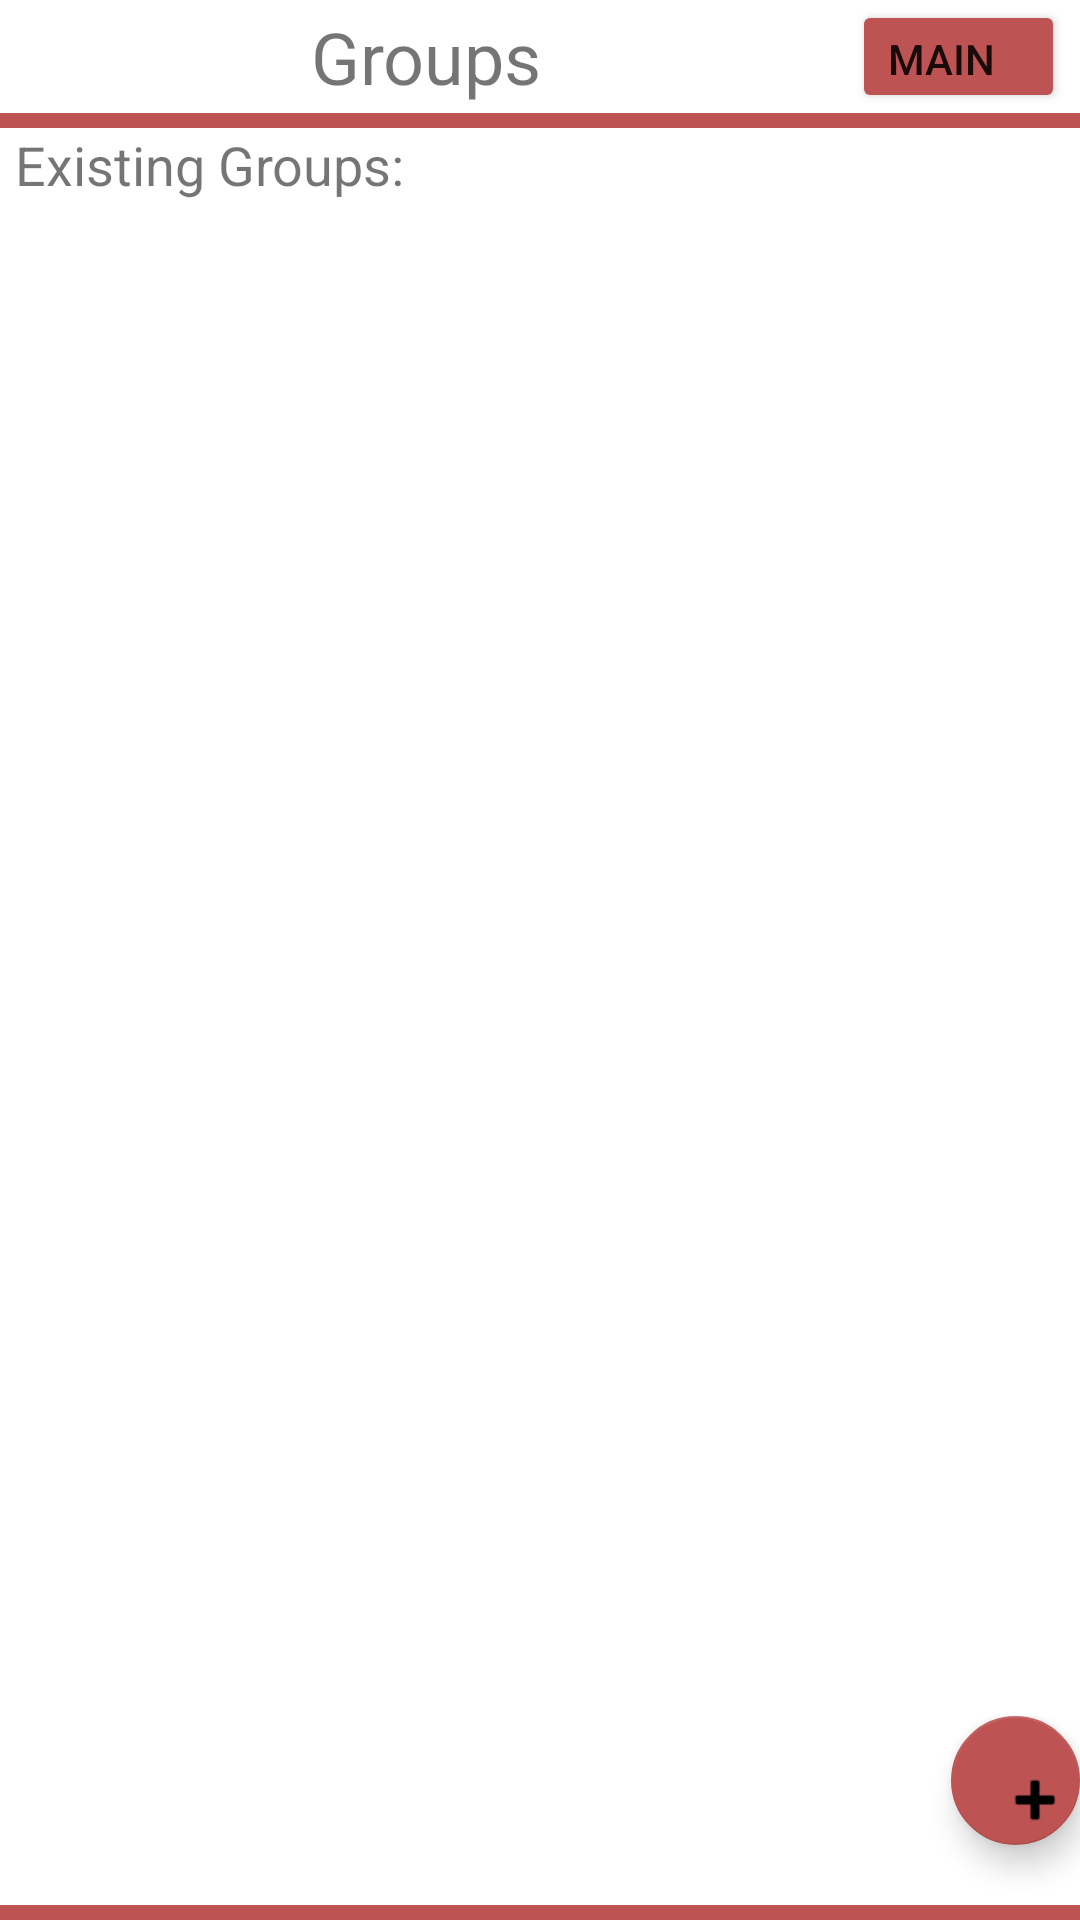

Icon click points for this 1080px×1920px phone screenshot, format (x=x, y=y):
add: (x=1015, y=1780)
